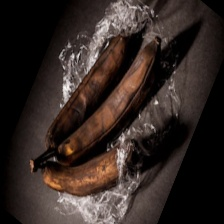banana: (33, 60, 224, 199)
